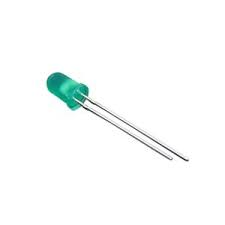LED: (43, 72, 194, 166)
